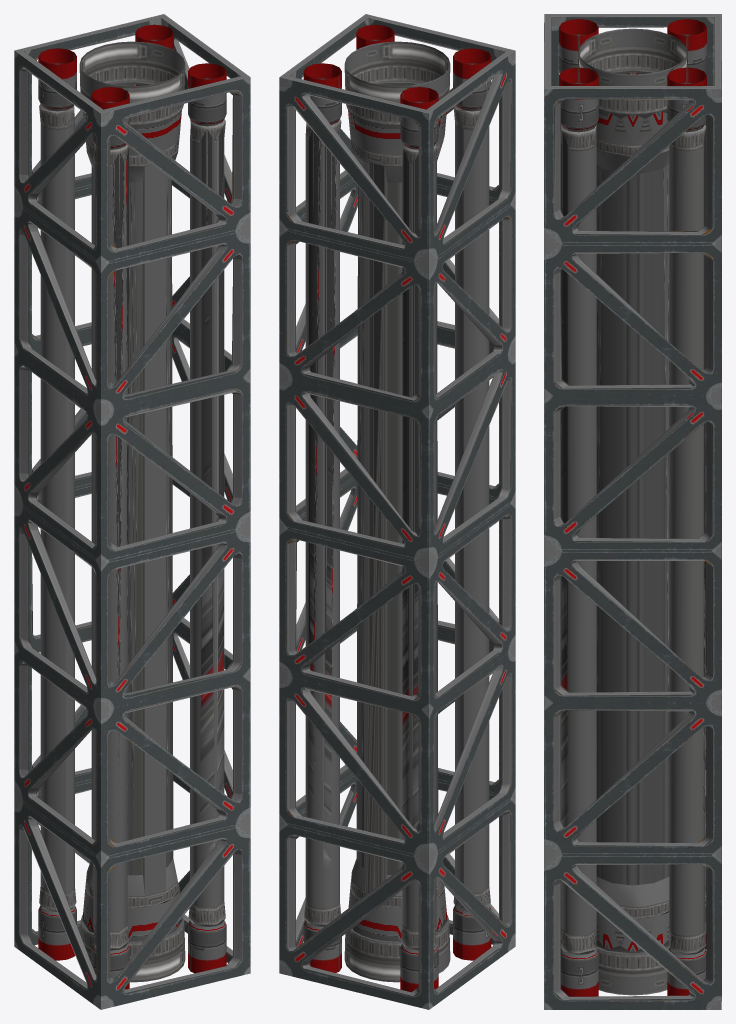
The model's file is core_column.glb.
The picture shows the model from 3 angles, left to right: view 1: azimuth 30°, elevation 25°; view 2: azimuth 150°, elevation 25°; view 3: azimuth 270°, elevation 25°; orthographic projection. The views are drawn at different scales.
Visible parts, largest first — view 1: Column_Pipes; view 2: Column_Pipes; view 3: Column_Pipes.
Part boxes in pixels (x1,y1,x2,y2): Column_Pipes: (14, 14, 250, 1009); Column_Pipes: (279, 14, 515, 1009); Column_Pipes: (544, 14, 721, 1009).
Bounding box in the file's own units: 0.8747 × 5 × 0.8747.
Materials: 3 (3 with a texture image).
